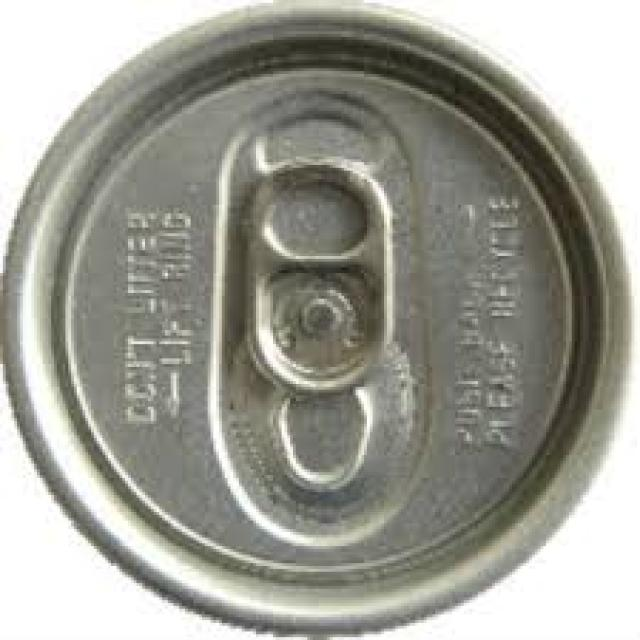metal: (0, 3, 637, 637)
